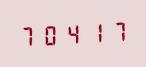four: (62, 20, 83, 46)
one: (84, 19, 105, 45)
seven: (18, 22, 39, 48), (106, 18, 127, 44)
zero: (40, 21, 61, 47)
